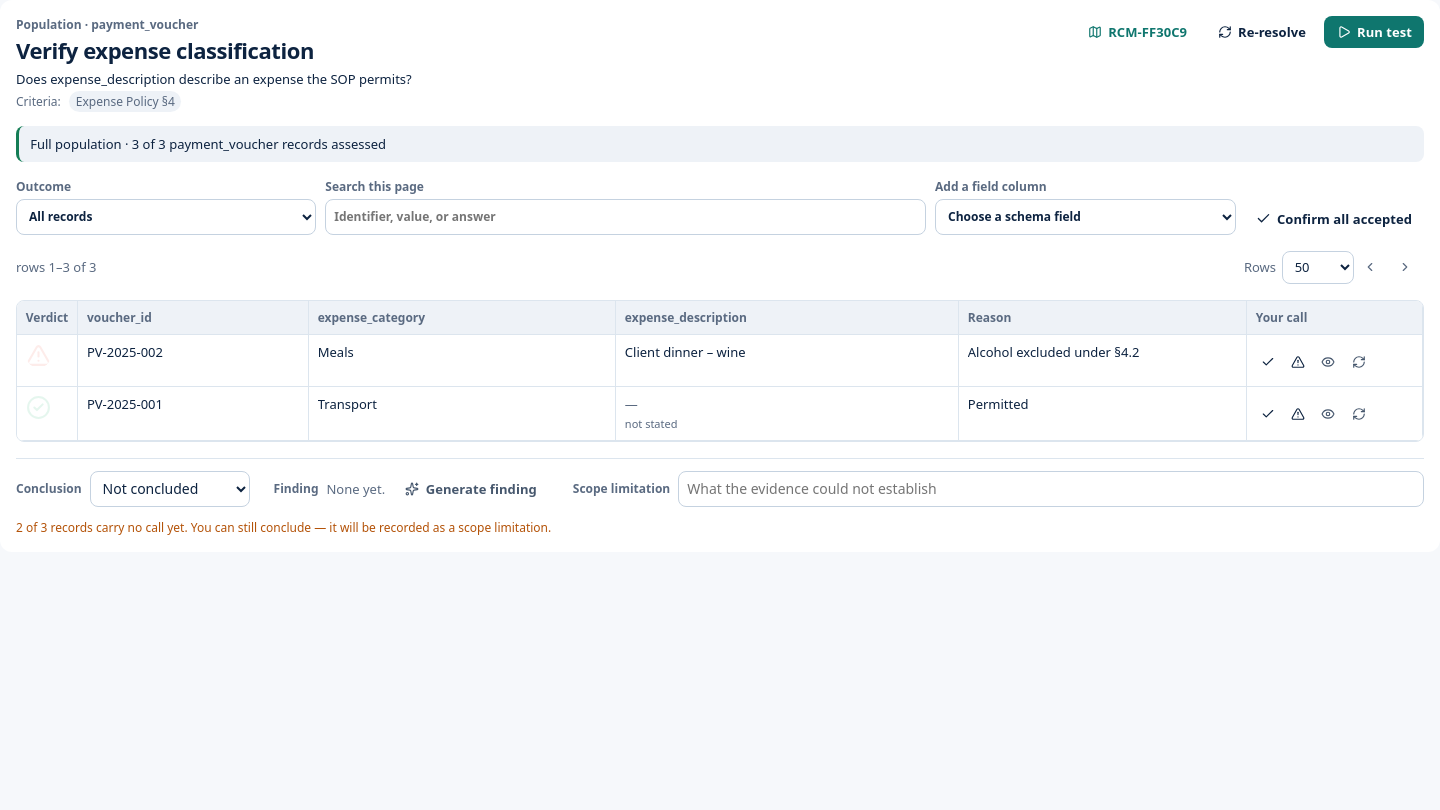
Test: PopulationGrid › opens one record in a pane rather than stacking every answer card
The width and height of the screenshot is (1440, 810).
Click the row that starts with "PV-2025-002" at coordinates (720, 361), box [17,335,1423,387]
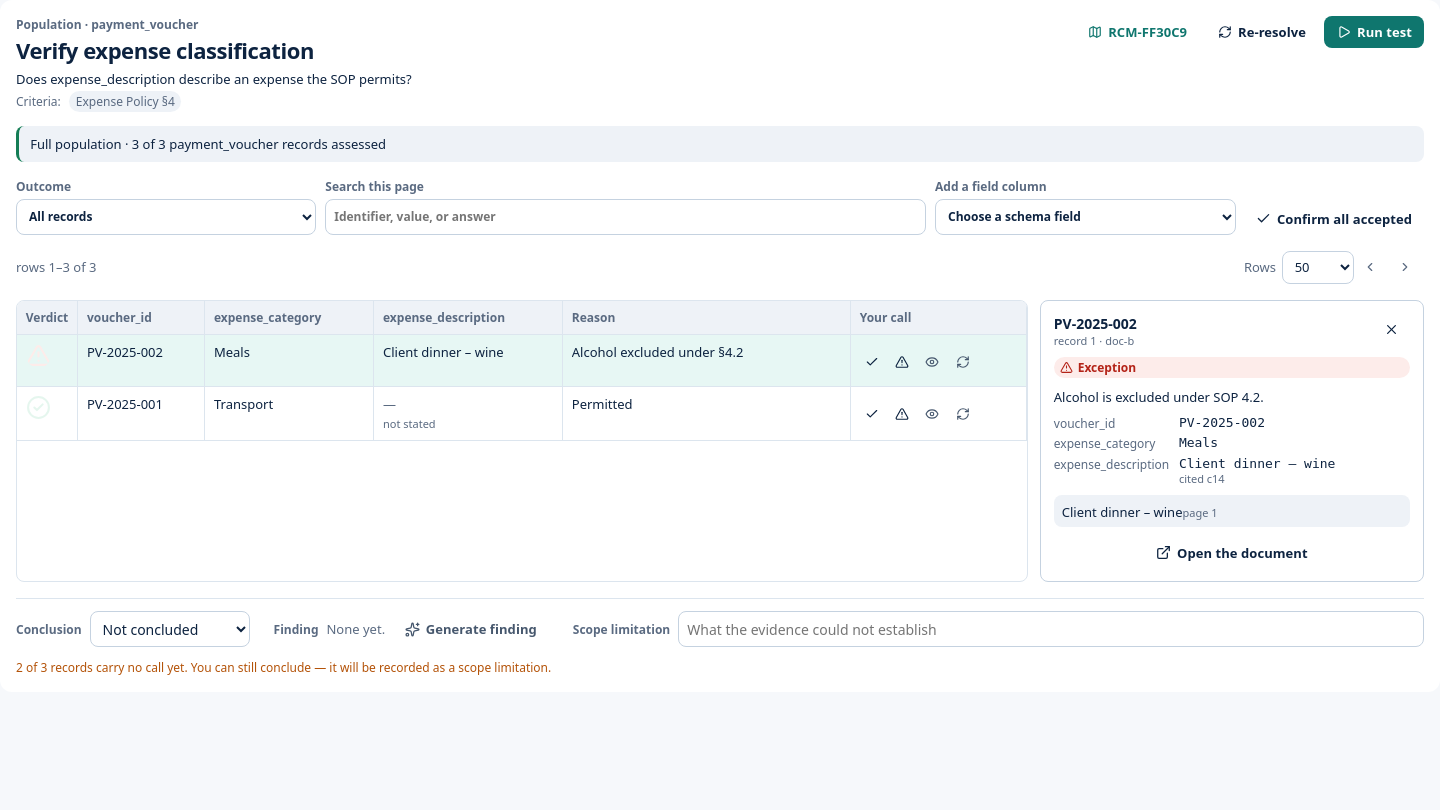
Expected: the element with class "detail-pane" shows "Alcohol is excluded under SOP 4.2.", [1054,388,1264,406]
Expected: the element with class "detail-pane" shows "cited c14", [1179,470,1225,486]
